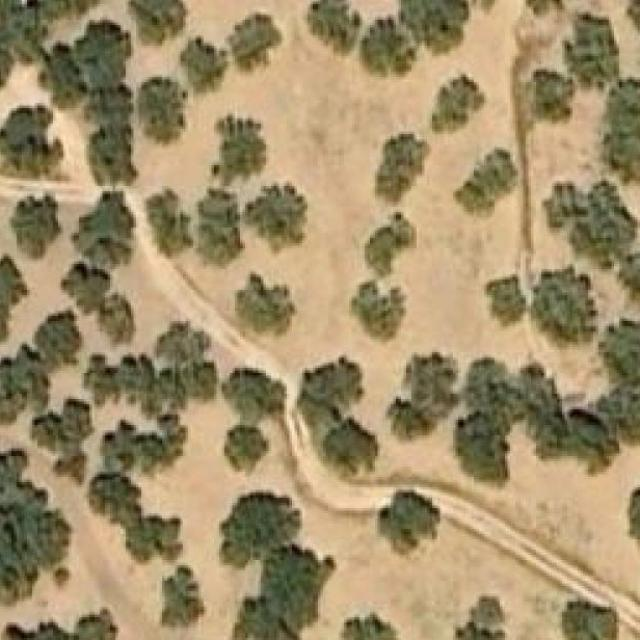Tree: (0, 440, 74, 604), (235, 542, 339, 640), (544, 179, 628, 267), (451, 147, 518, 225), (222, 493, 295, 563), (534, 267, 600, 343), (27, 407, 87, 483), (0, 106, 63, 178), (74, 191, 134, 264), (373, 134, 430, 210), (230, 272, 295, 338), (72, 23, 134, 88), (570, 12, 628, 80), (430, 70, 487, 137), (601, 76, 640, 173), (245, 183, 308, 243), (212, 113, 267, 181), (349, 281, 409, 342), (320, 417, 380, 477), (380, 490, 441, 548), (297, 360, 358, 418), (404, 352, 461, 413), (400, 0, 465, 53), (196, 194, 243, 267), (224, 366, 287, 420), (456, 417, 503, 487), (0, 254, 32, 356), (138, 77, 188, 142), (160, 565, 207, 631), (362, 17, 414, 74), (308, 0, 360, 56), (362, 217, 412, 274), (526, 70, 578, 124), (12, 196, 58, 257), (150, 191, 191, 257), (230, 12, 282, 64), (0, 359, 43, 420), (178, 36, 230, 86), (89, 127, 136, 182), (126, 0, 185, 43), (600, 318, 640, 381), (456, 596, 513, 640), (155, 321, 207, 366), (86, 472, 136, 518), (98, 295, 142, 345), (562, 601, 617, 640), (225, 425, 269, 470), (383, 397, 428, 441), (34, 321, 74, 366), (341, 612, 401, 640), (66, 610, 122, 640), (484, 282, 521, 321), (614, 248, 640, 300), (621, 479, 640, 550), (69, 267, 105, 303), (4, 620, 67, 640), (626, 0, 640, 32)
